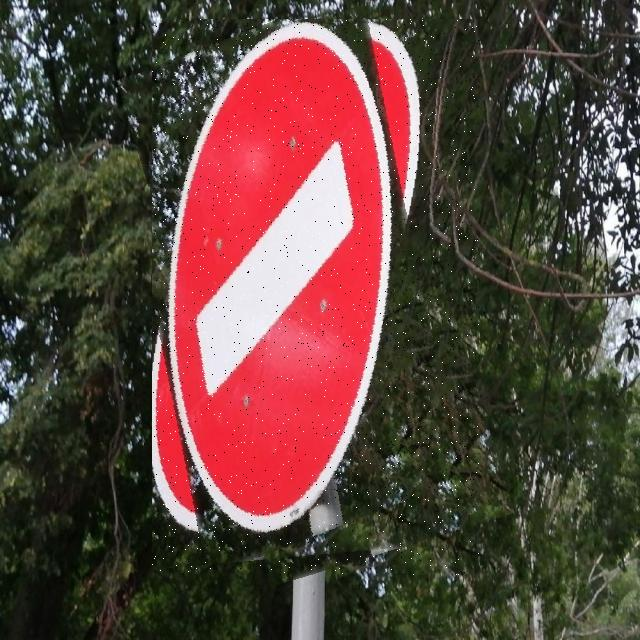no entry: (152, 19, 479, 575)
